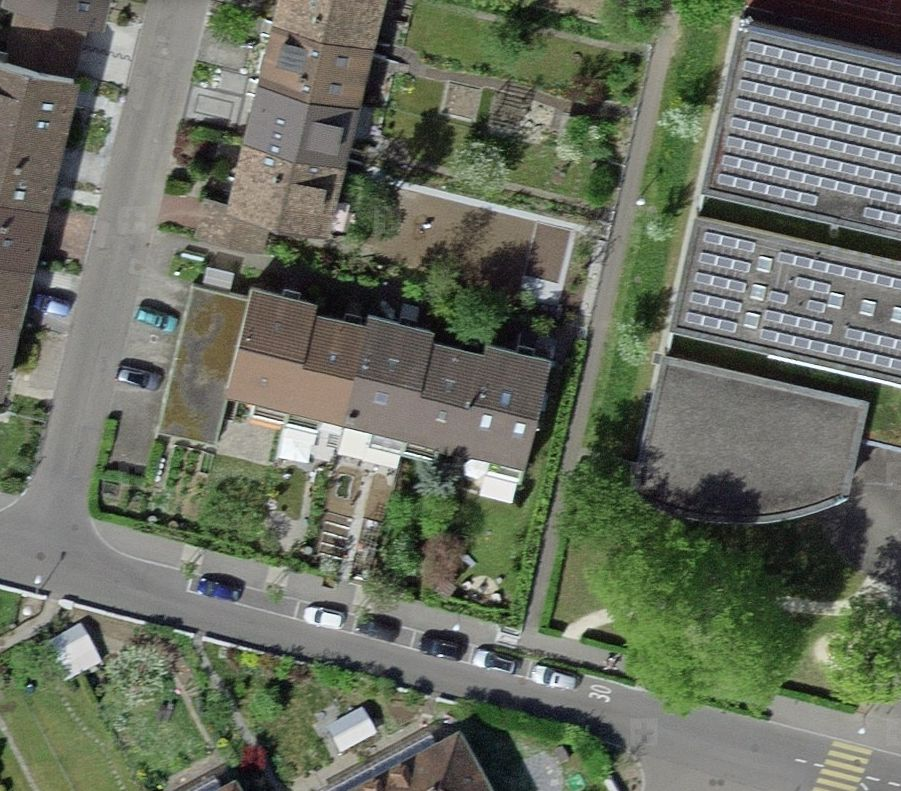solar: (684, 39, 901, 369)
